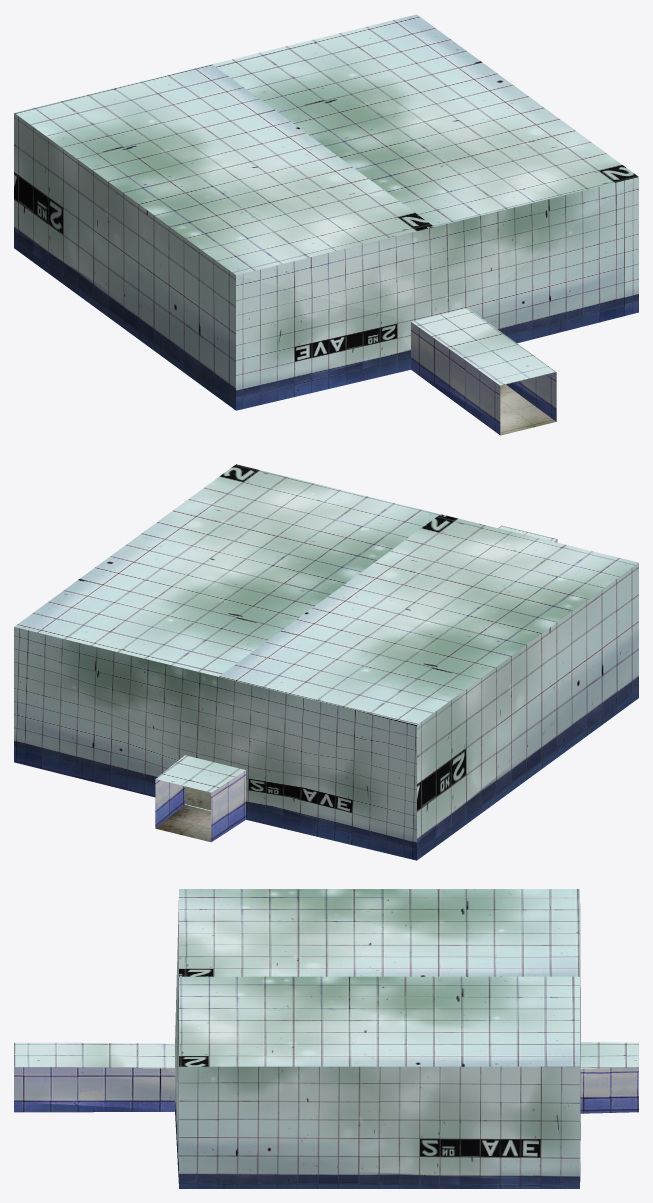
File: metro right straight big room.fbx
The picture shows the model from 3 angles, top to bottom: view 1: azimuth 30°, elevation 25°; view 2: azimuth 150°, elevation 25°; view 3: azimuth 270°, elevation 25°; orthographic projection. The views are drawn at different scales.
Parts seen in each view (by area): view 1: Big room; view 2: Big room; view 3: Big room.
Boxes of the visible parts, x1,y1,x2,y2 form: Big room: (14, 14, 638, 435); Big room: (14, 464, 638, 860); Big room: (14, 889, 638, 1188).
Bounding box in the file's own units: 10240 × 2218 × 6880.
